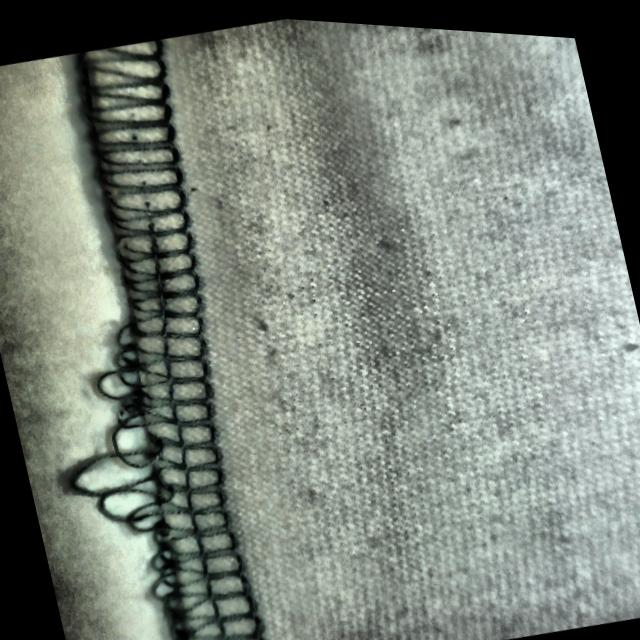Stitch: (33, 297, 277, 640)
